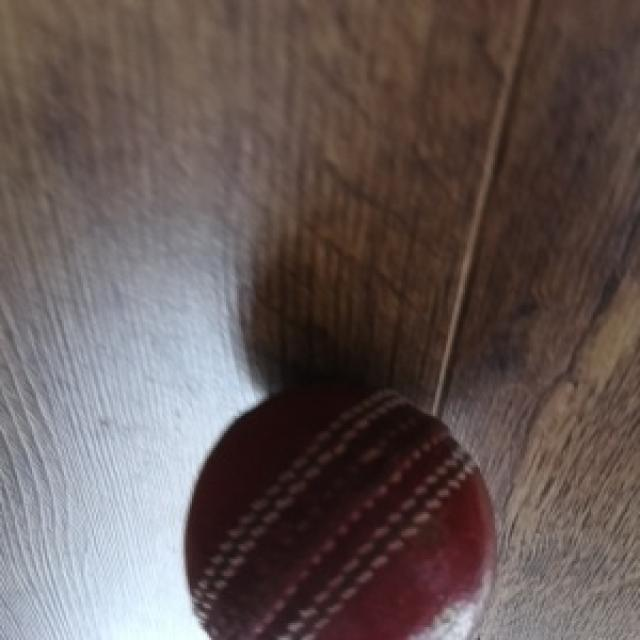ball: (183, 384, 499, 640)
